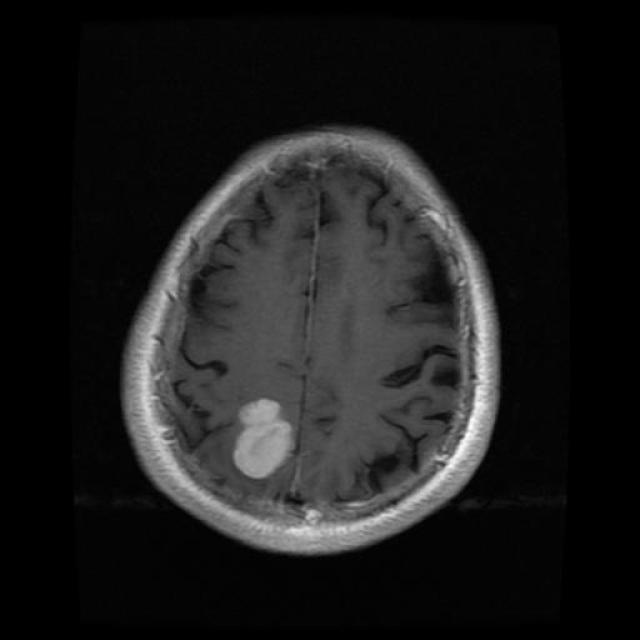meningioma: (207, 380, 296, 478)
